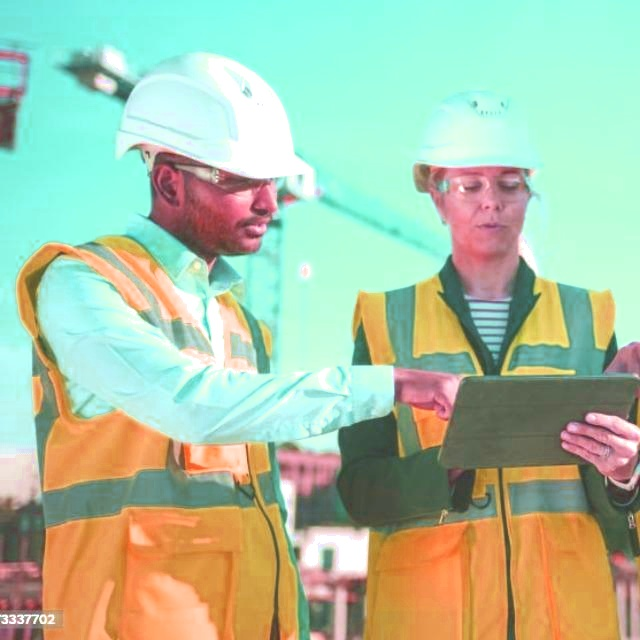Con_Casco: (110, 48, 310, 240), (414, 84, 546, 261)
Con_Chaleco: (17, 236, 317, 640), (366, 266, 618, 640)
